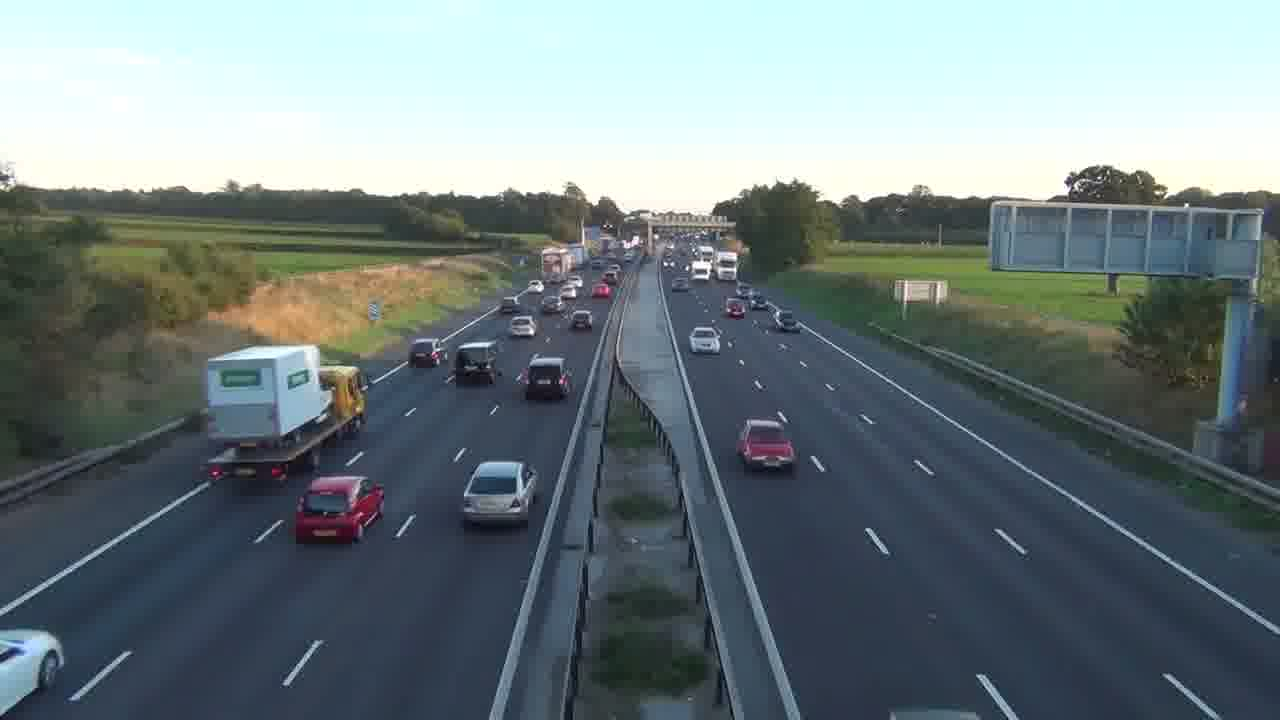car: (294, 474, 385, 545), (0, 627, 66, 717), (460, 460, 539, 528), (736, 417, 798, 472), (689, 327, 721, 356), (571, 308, 593, 331)
truck: (204, 343, 369, 482), (712, 250, 739, 282)
